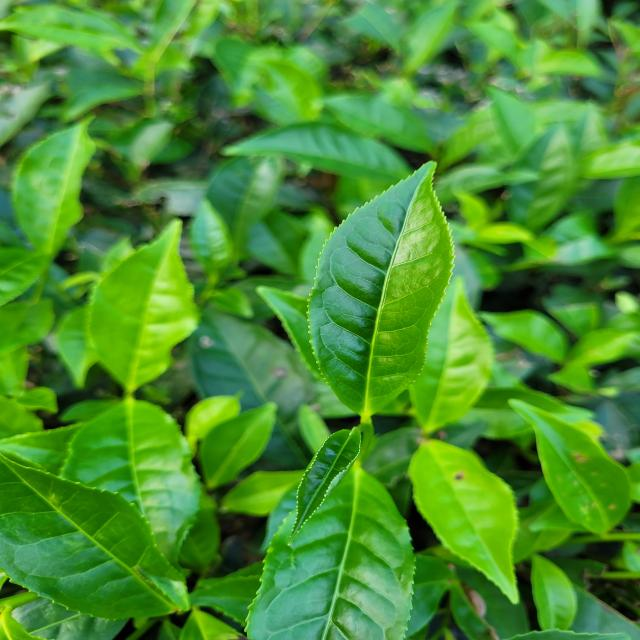Catagory A(1-2 days): (277, 422, 381, 544)
